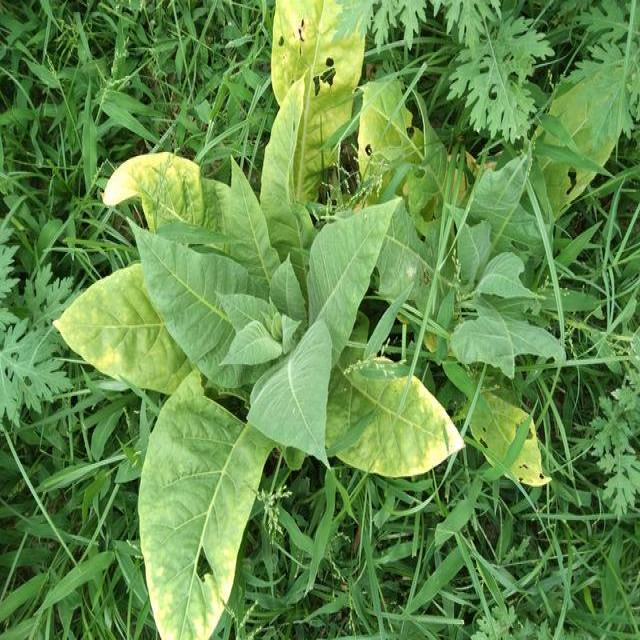crop: (48, 138, 465, 637)
